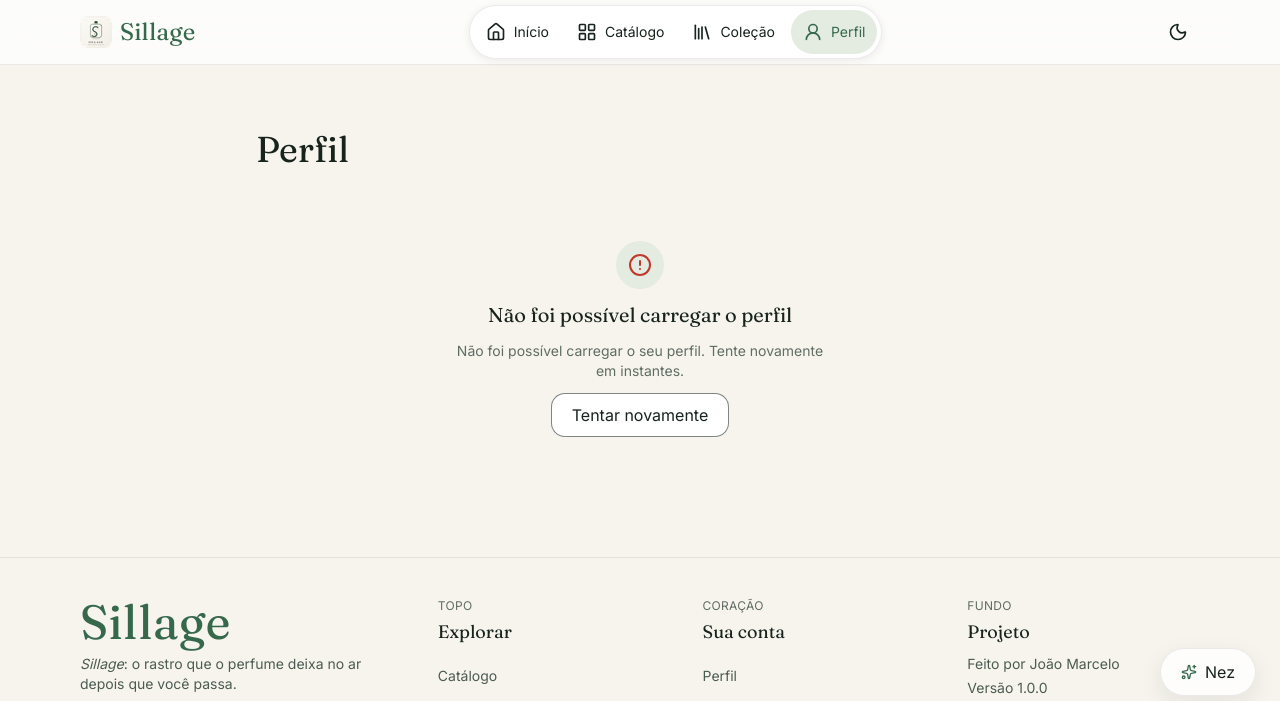
ProfilePage › falha ao carregar o perfil mostra o erro com tentar de novo
The width and height of the screenshot is (1280, 701).
Check: the heading "Não foi possível carregar o perfil" is shown, box [488,301,792,329]
Check: the text "Não foi possível carregar o seu perfil. Tente novamente em instantes." is shown, box [448,341,832,381]
What coordinates should you click on to do the following:
click the button "Tentar novamente"
I would click on:
 (640, 415)
Its box is [551,393,729,437].
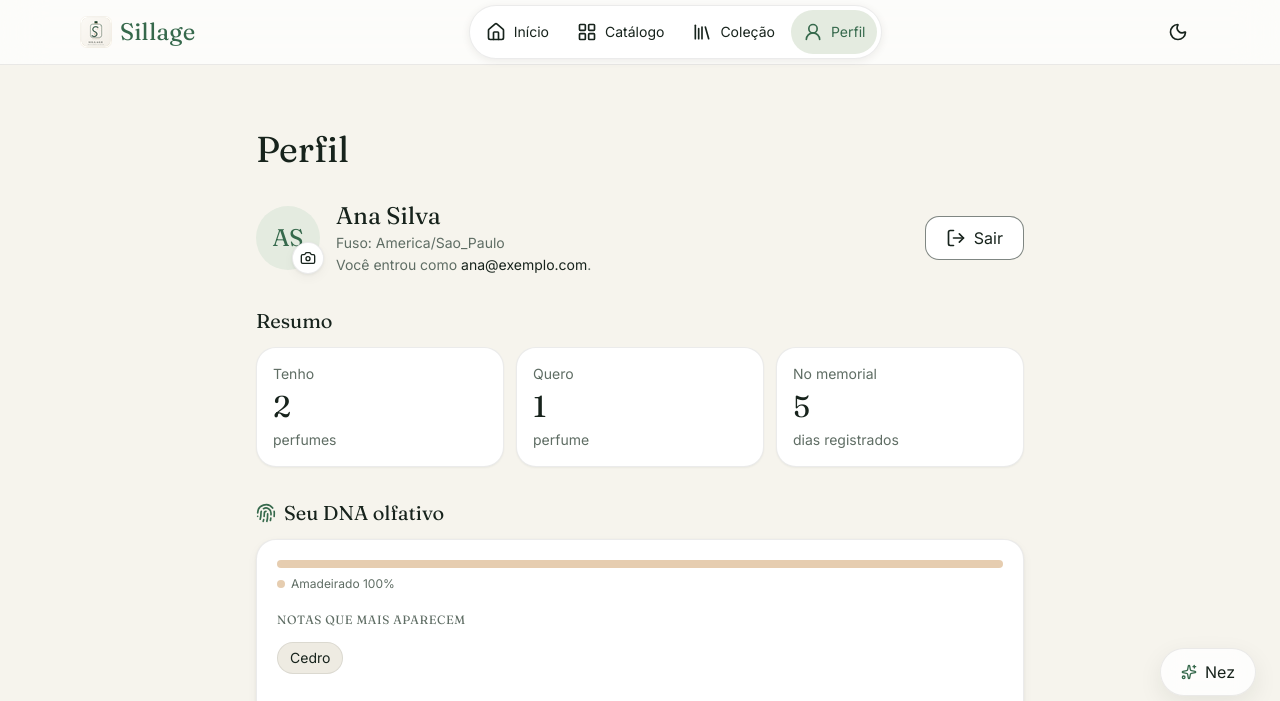
Check: the heading "Ana Silva" is shown, box [336,201,441,230]
